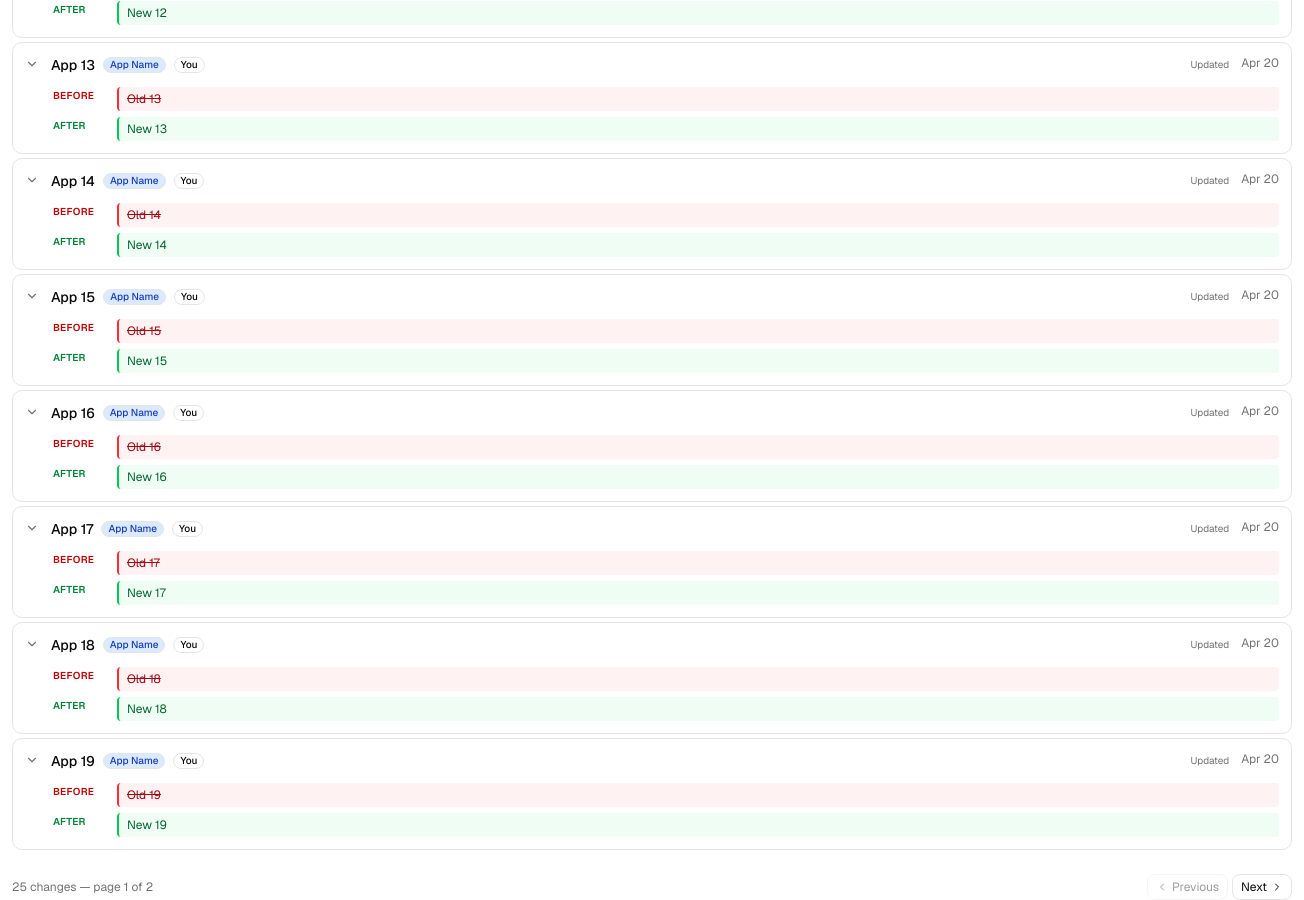
UnifiedChangeLog › resets page to 1 when filters change
(page scrolled)
Note: Go to page 2
Click the button "Next" at coordinates (1262, 887), box 1232,874 -> 1292,899
(page scrolled)
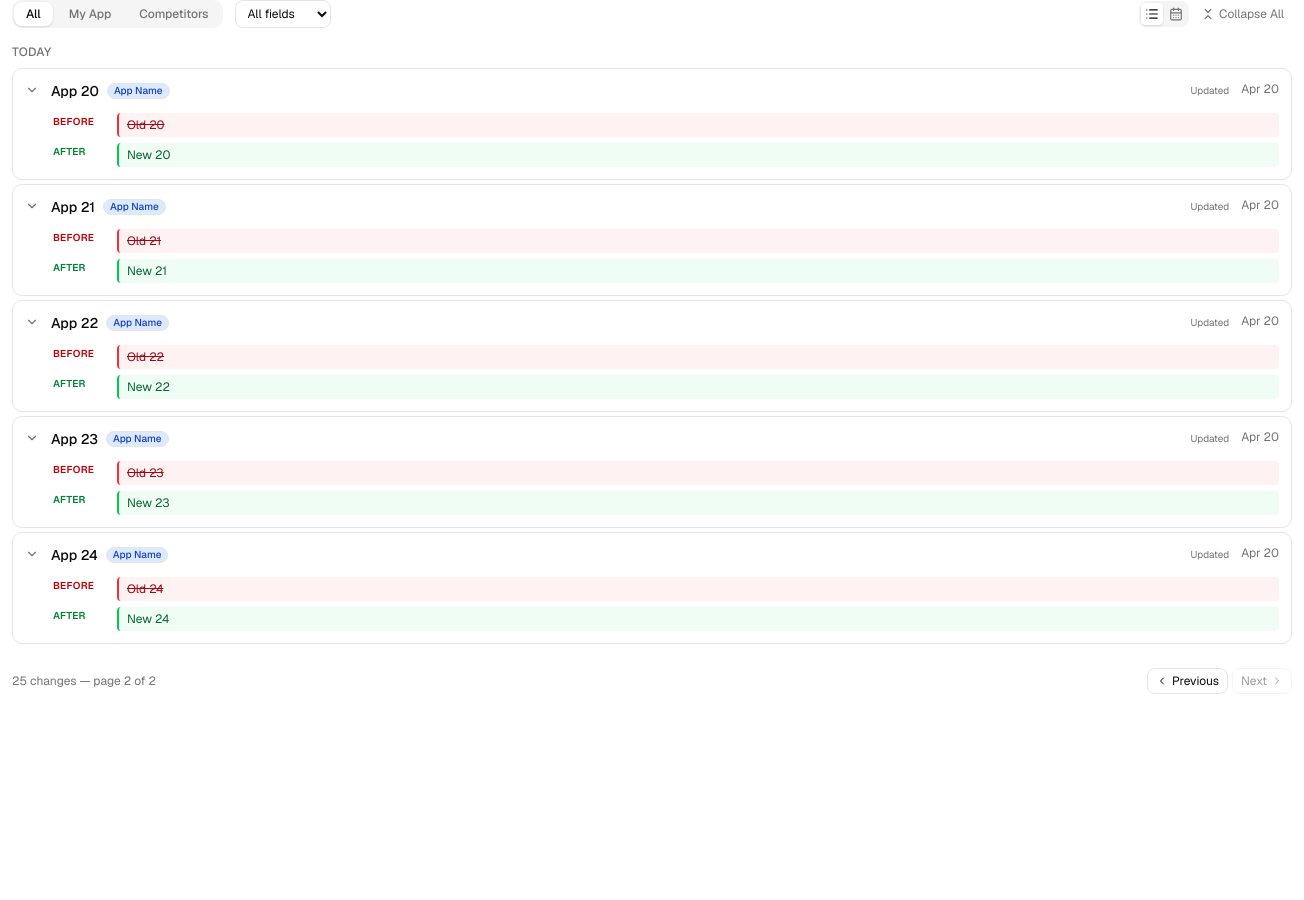
Result: the text "25 changes — page 2 of 2" is shown at 12,673 -> 156,689
Note: Change source filter — should reset to page 1
Click the button "Competitors" at coordinates (174, 14), box 127,2 -> 221,26
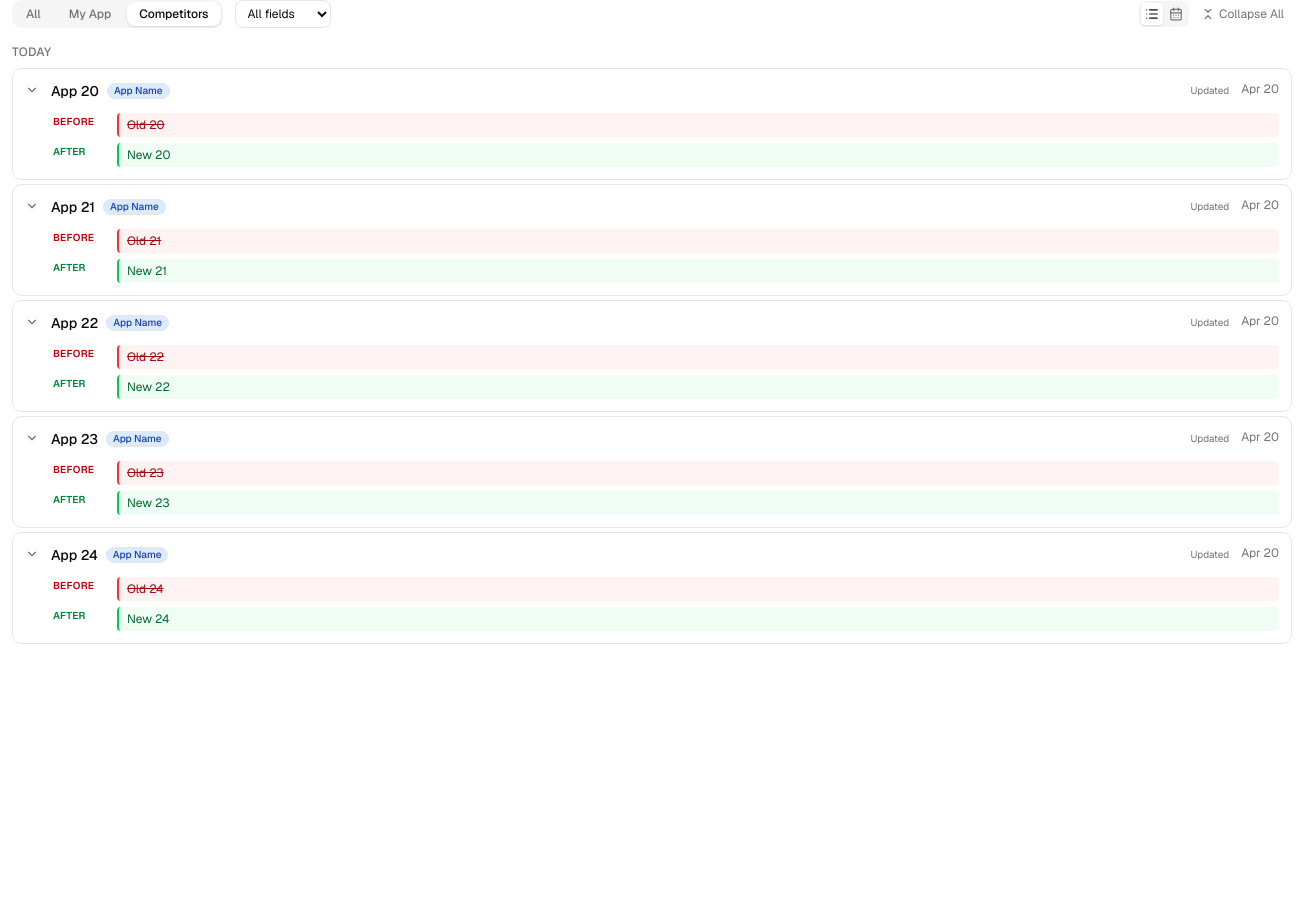
Result: the text "page 2" is gone
